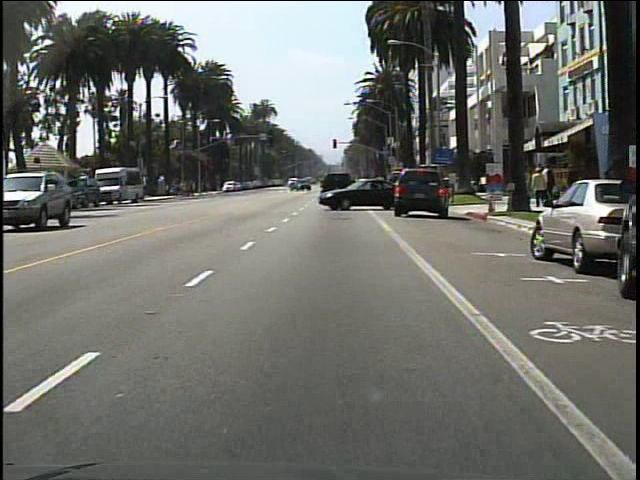person: (542, 160, 558, 208), (372, 169, 389, 207), (532, 167, 547, 208)
